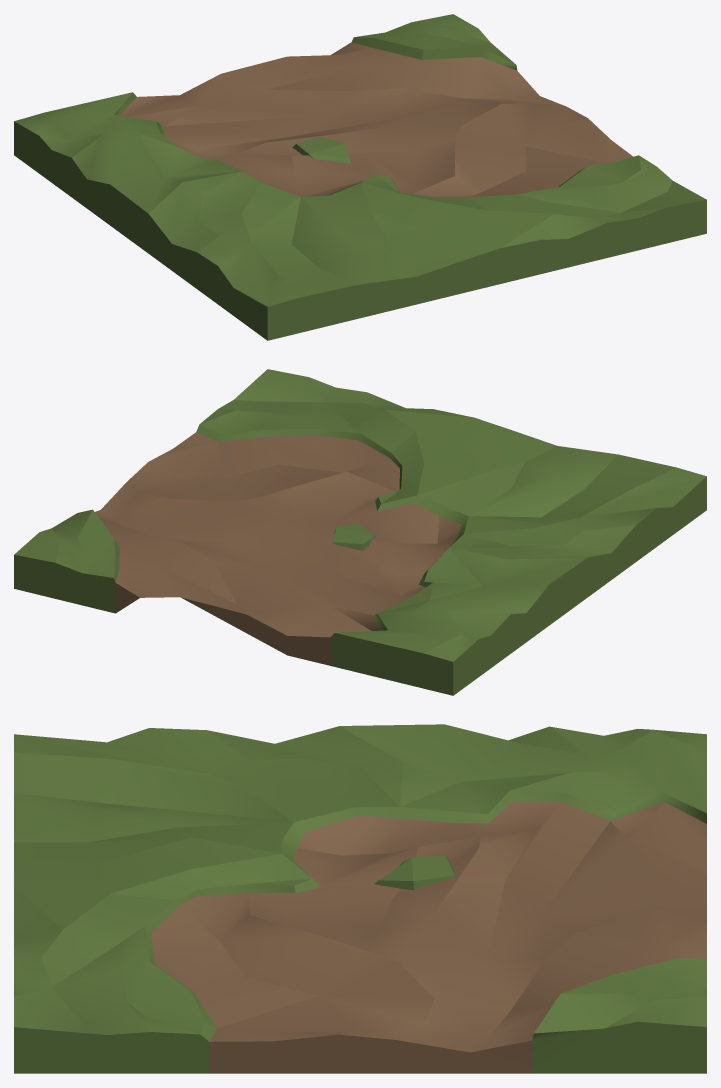
Rendered from Ground_Path_Turn_LB.glb.
3 views of the same model, one above another, from view 1: azimuth 30°, elevation 25°; view 2: azimuth 150°, elevation 25°; view 3: azimuth 270°, elevation 25° (orthographic). The views are drawn at different scales.
Visible parts, largest first — view 1: Ground_Path_Turn_LB; view 2: Ground_Path_Turn_LB; view 3: Ground_Path_Turn_LB.
Part boxes in pixels (<box>): Ground_Path_Turn_LB: <box>14,14,706,340</box>; Ground_Path_Turn_LB: <box>14,369,706,695</box>; Ground_Path_Turn_LB: <box>14,724,706,1073</box>.
Bounding box in the file's own units: 1.47 × 0.1477 × 1.47.
